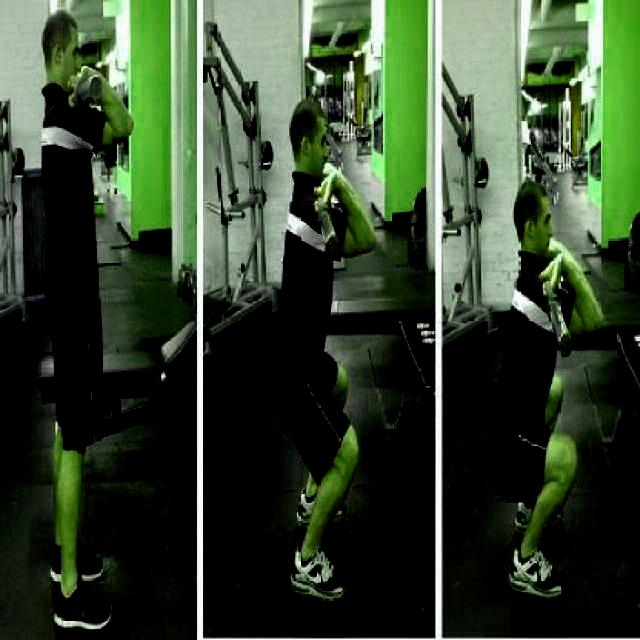barbell: (539, 283, 580, 370), (311, 198, 347, 267), (70, 66, 108, 116)
